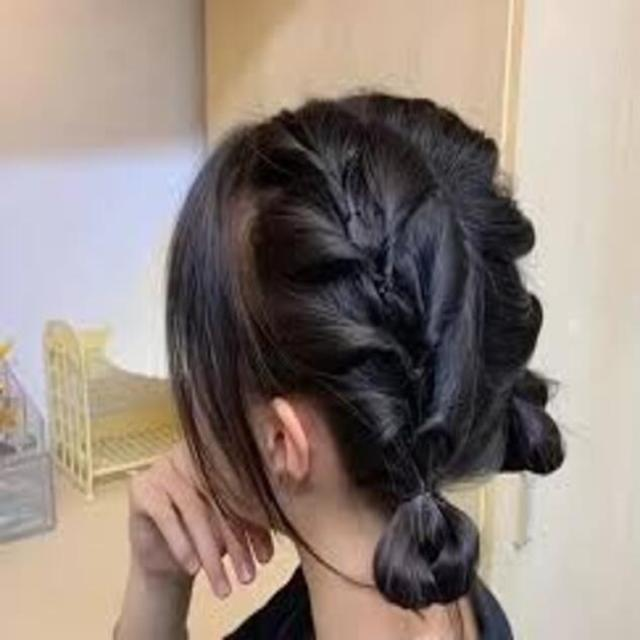Nonhelmet: (159, 86, 568, 615)
